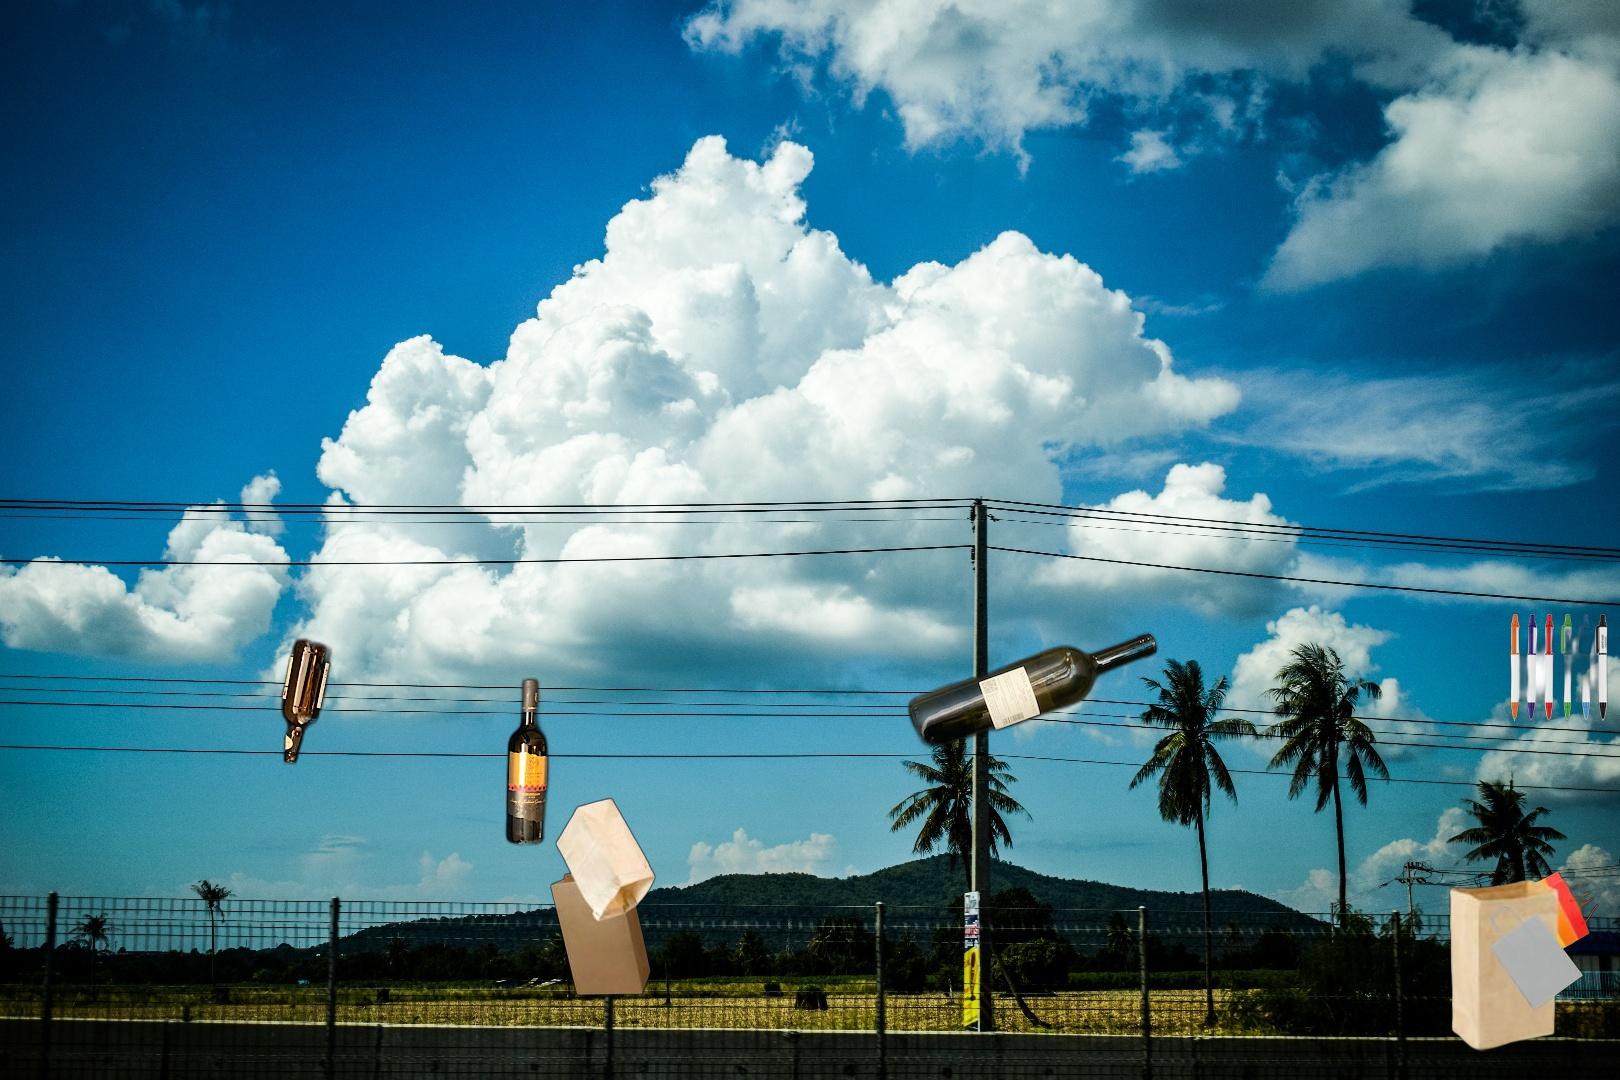glass: (277, 633, 553, 850), (903, 627, 1162, 752), (476, 1021, 988, 1080)
paper-bag: (1446, 870, 1600, 1055), (548, 796, 656, 999)
penholder: (1508, 611, 1620, 724)
